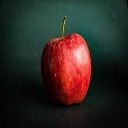apple: (39, 34, 92, 106)
